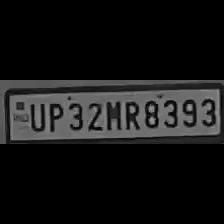2: (84, 98, 104, 132)
3: (64, 98, 82, 132), (199, 94, 217, 128), (160, 96, 178, 128)
8: (140, 96, 160, 130)
9: (178, 95, 198, 127)
M: (104, 98, 120, 132)
P: (44, 100, 64, 132)
R: (120, 97, 140, 130)
U: (27, 100, 46, 132)
